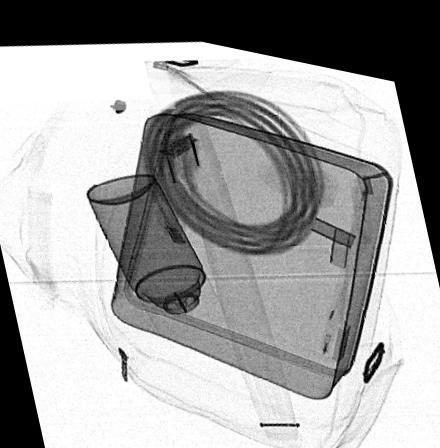Sprayer: (86, 167, 223, 331)
